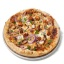pizza: (3, 12, 59, 55)
